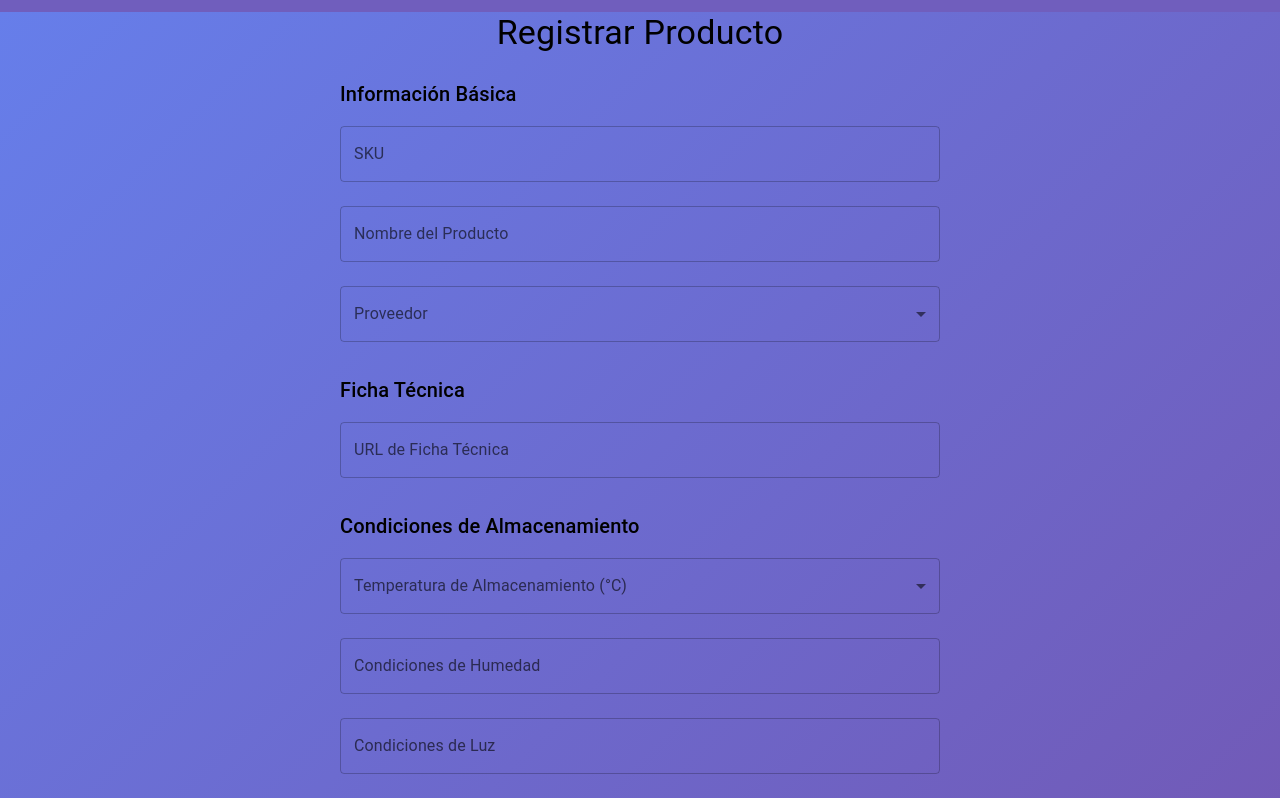
ProductoForm › Estados de carga inicial › carga y muestra proveedores desde la API
The image size is (1280, 798).
Click the dropdown named "Proveedor" next to "Proveedor". click: (640, 314)
box: [340, 286, 940, 342]
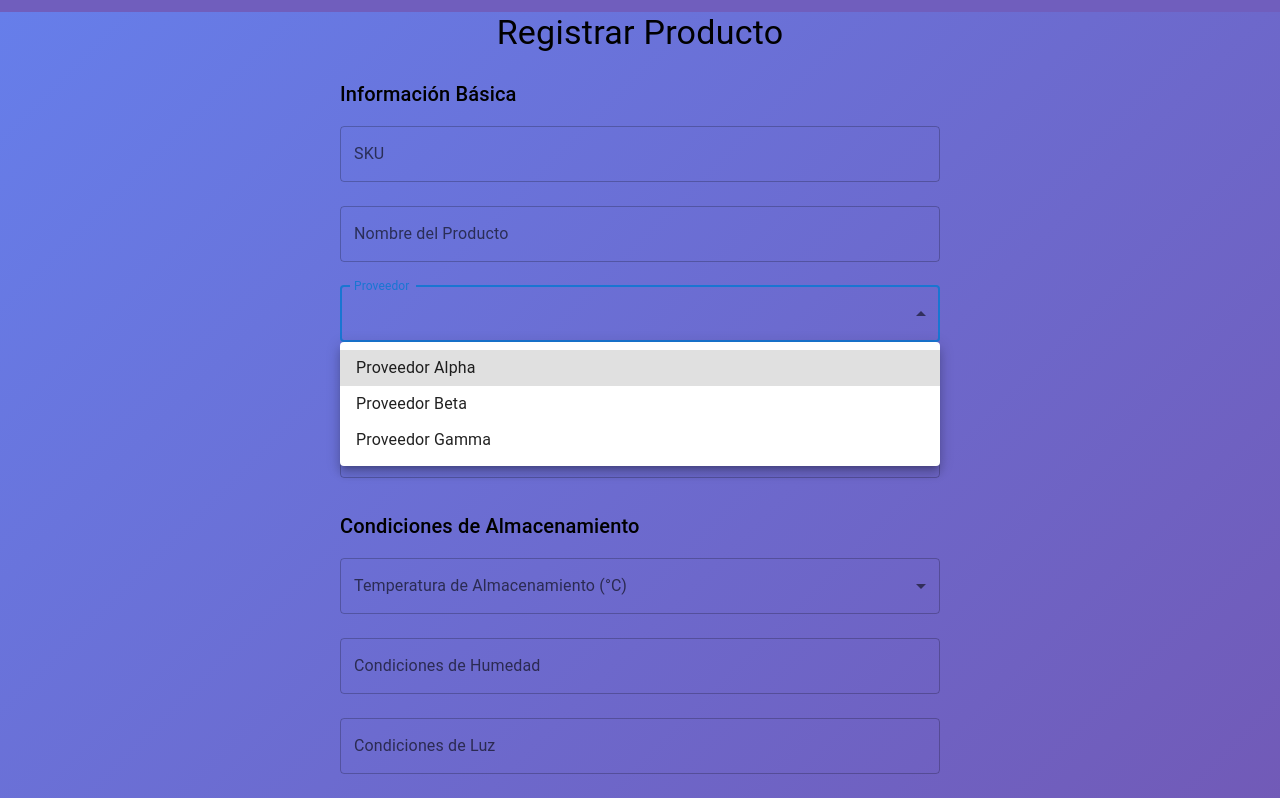
expect the option "Proveedor Alpha" is shown: met, box [340, 350, 940, 386]
expect the option "Proveedor Beta" is shown: met, box [356, 394, 467, 413]
expect the option "Proveedor Gamma" is shown: met, box [356, 430, 491, 449]
